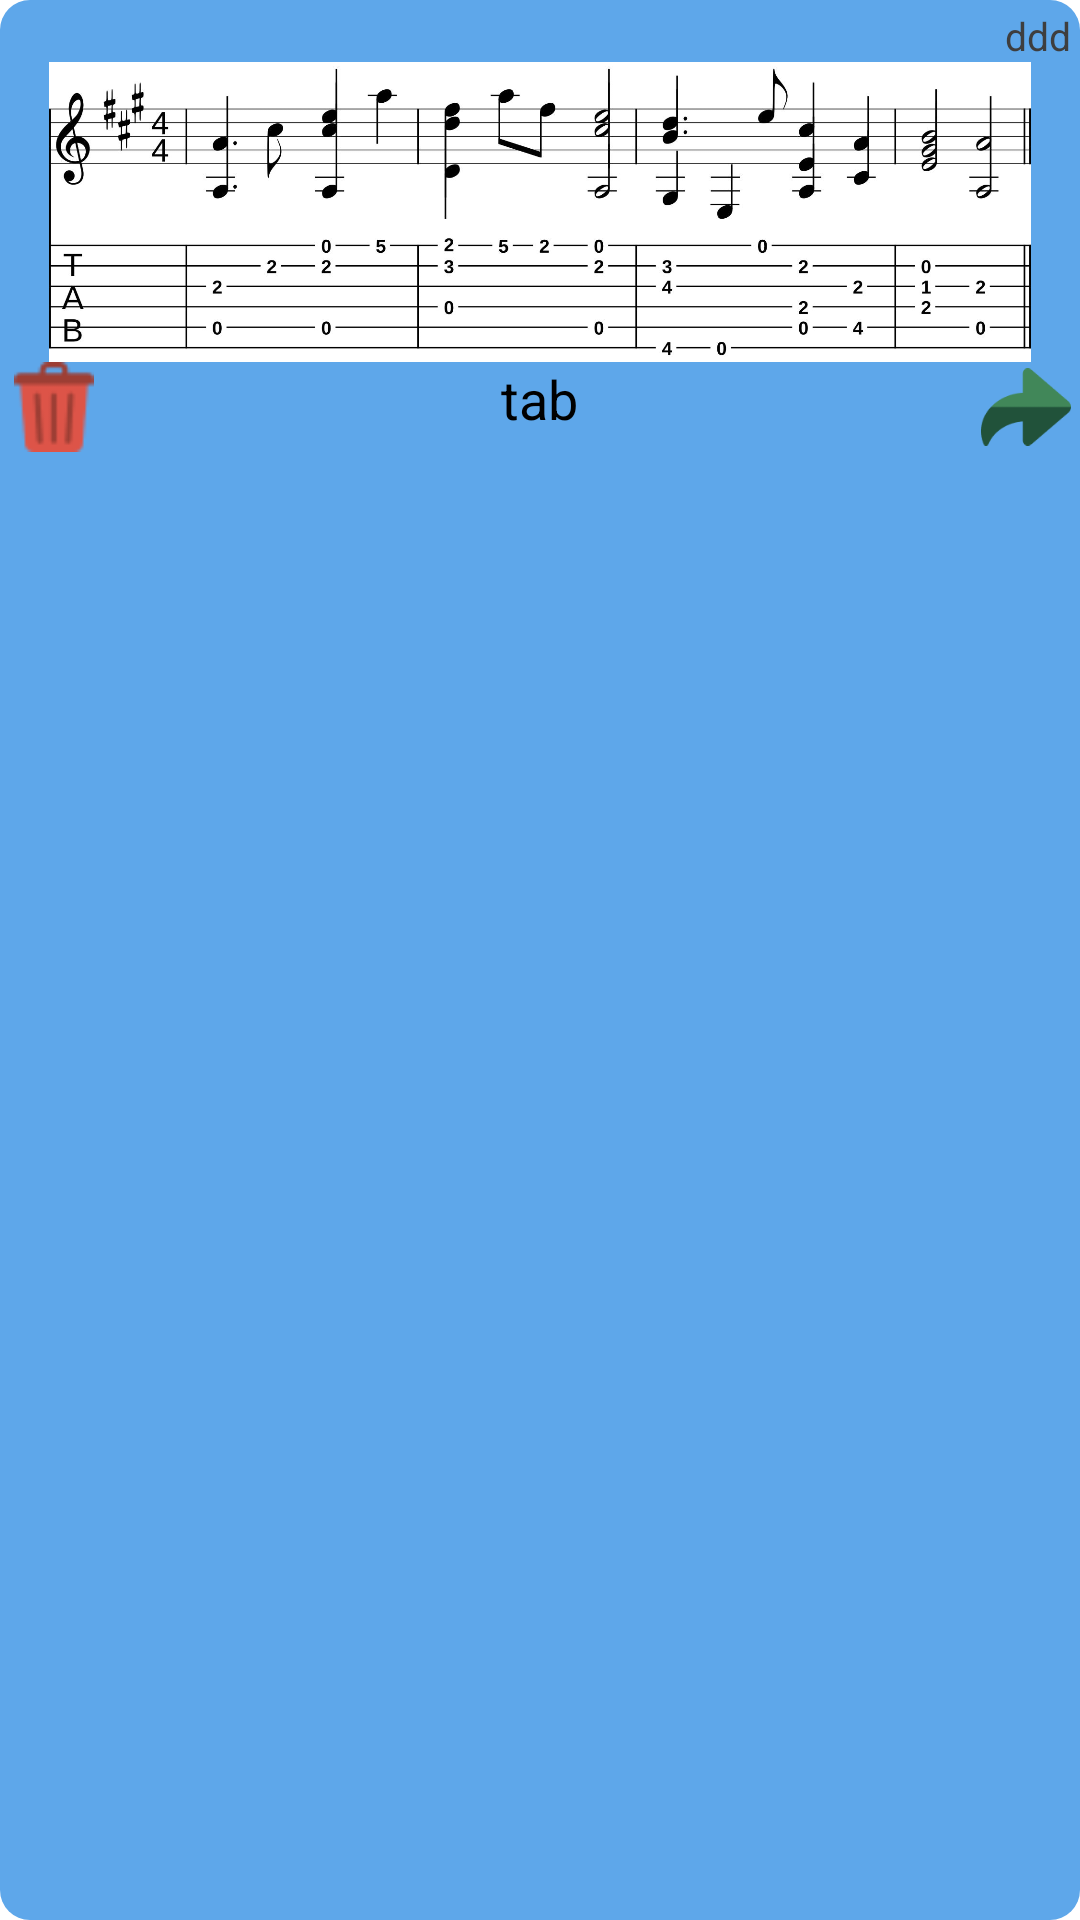

Icons on this 1080w x 1920h Android screen, each with the point to tap as point (x, y):
share: point (1026, 407)
trash: point (54, 407)
